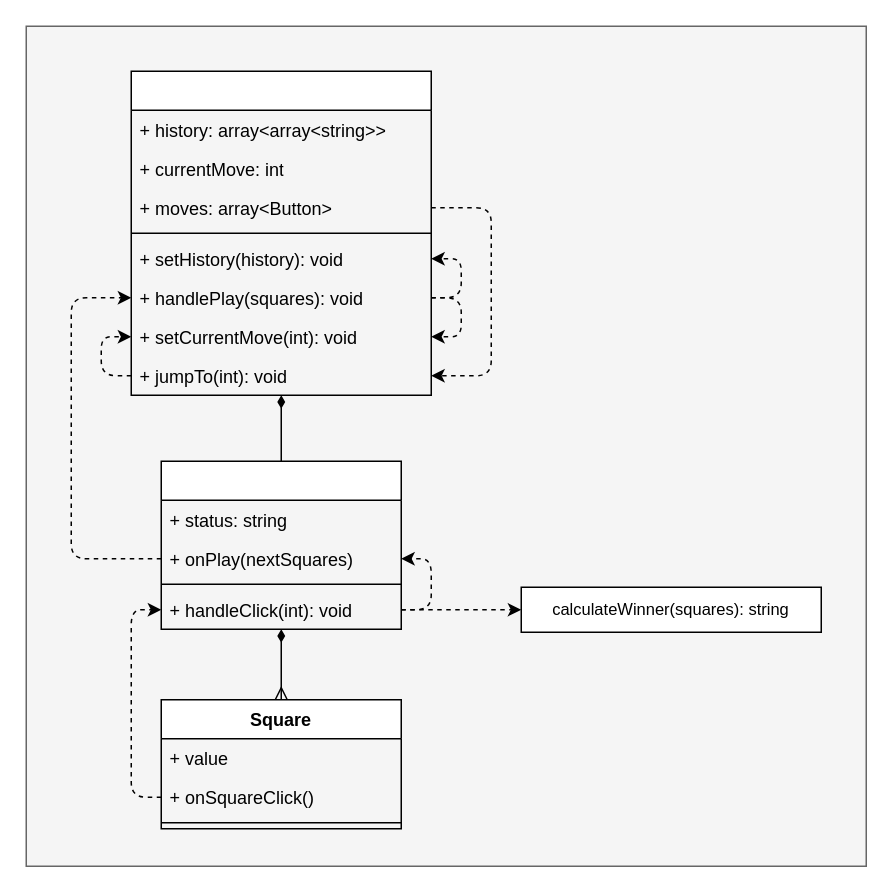
This 893x893 diagram has some shape labels left out. Each missing label, with the box of its shape:
Board: (160, 460, 401, 629)
Game: (130, 70, 431, 395)
